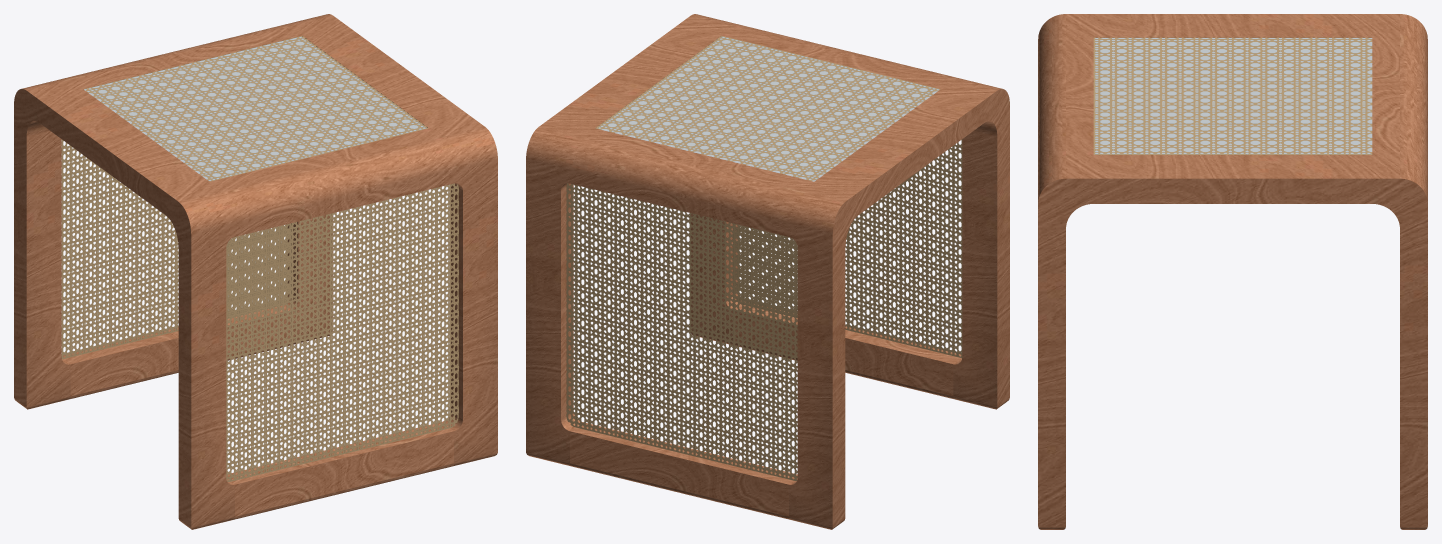
File: table_bed.glb
3 views of the same model, side by side, from view 1: azimuth 30°, elevation 25°; view 2: azimuth 150°, elevation 25°; view 3: azimuth 270°, elevation 25° (orthographic). The views are drawn at different scales.
Parts seen in each view (by area): view 1: Material2 (×6), Material3 (×2); view 2: Material2 (×6), Material3 (×2); view 3: Material3 (×2), Material2 (×2).
Boxes of the visible parts, x1,y1,x2,y2 form: Material2 (×6): [14, 36, 497, 529]; Material3 (×2): [14, 14, 497, 256]; Material2 (×6): [526, 36, 1009, 529]; Material3 (×2): [526, 14, 1009, 256]; Material3 (×2): [1038, 14, 1427, 228]; Material2 (×2): [1038, 37, 1427, 529].
Size of the model in its own units: 13.78 by 13.78 by 13.78.
5 materials, 3 textured.
